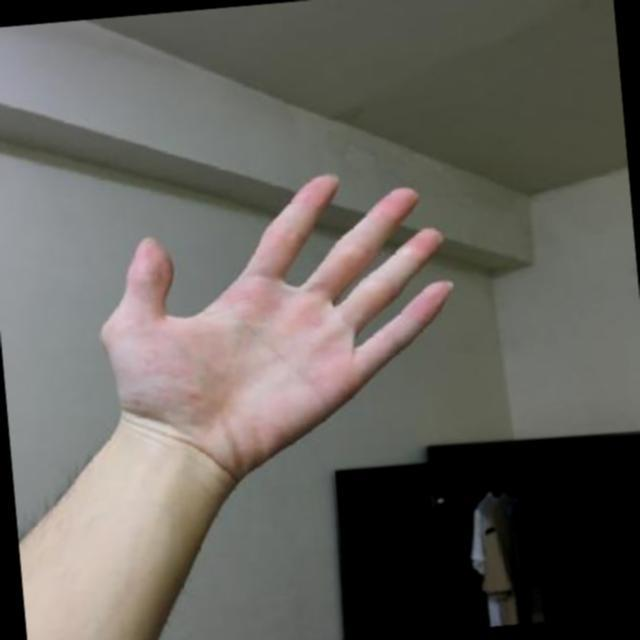hand: (66, 148, 482, 512)
